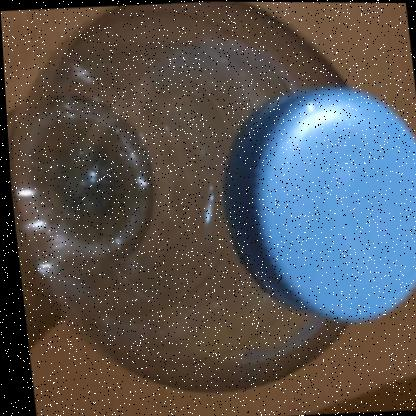bottle cap: (1, 1, 416, 416)
